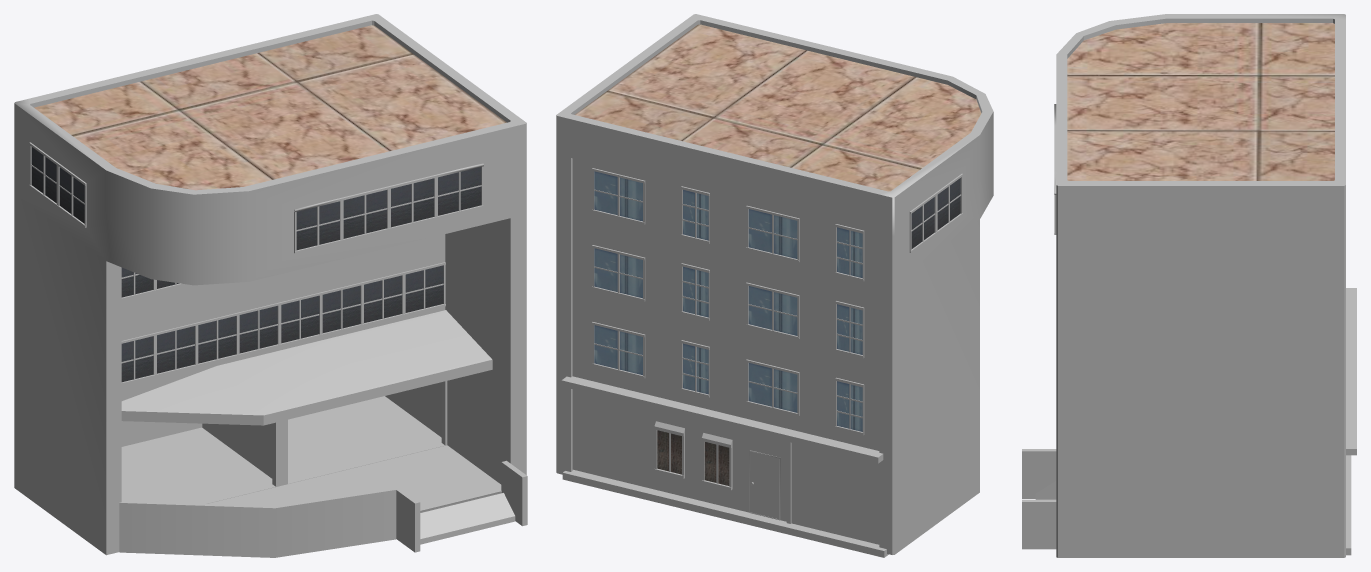
Rendered from bldg_mall_05a.fbx.
3 renders of one model, left to right at view 1: azimuth 30°, elevation 25°; view 2: azimuth 150°, elevation 25°; view 3: azimuth 270°, elevation 25°, orthographic. The views are drawn at different scales.
Parts seen in each view (by area): view 1: bldg_mall_05a; view 2: bldg_mall_05a; view 3: bldg_mall_05a.
Boxes of the visible parts, x1=… form: bldg_mall_05a: x1=14, y1=14, x2=527, y2=557; bldg_mall_05a: x1=556, y1=14, x2=993, y2=557; bldg_mall_05a: x1=1022, y1=14, x2=1356, y2=557.
Bounding box in the file's own units: 11.94 × 12.09 × 9.79.
